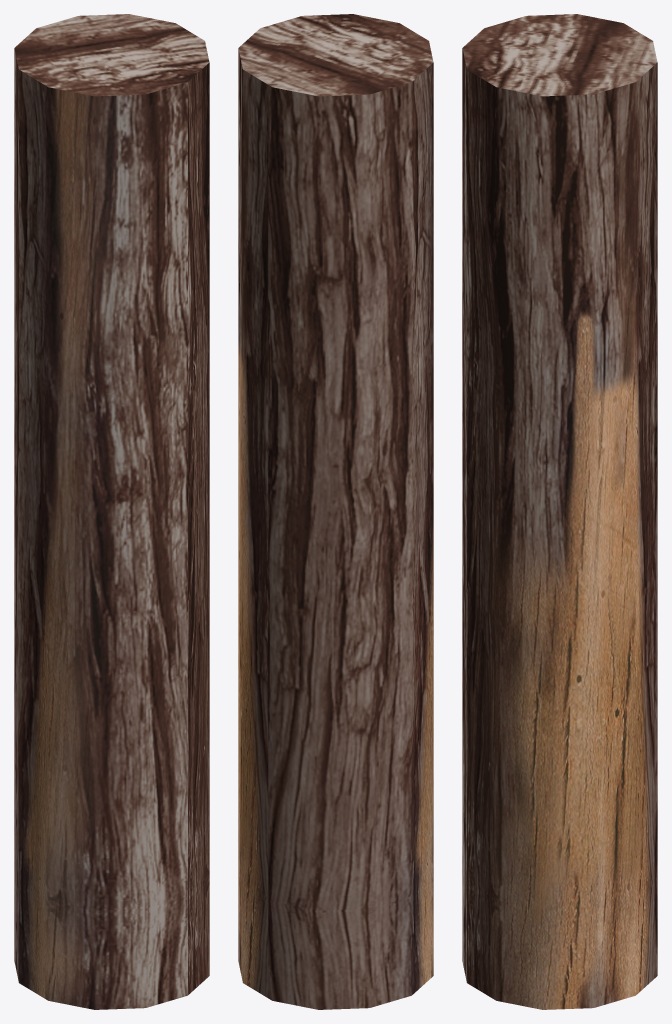
3 renders of one model, left to right at view 1: azimuth 30°, elevation 25°; view 2: azimuth 150°, elevation 25°; view 3: azimuth 270°, elevation 25°, orthographic.
Parts seen in each view (by area): view 1: Box08; view 2: Box08; view 3: Box08.
Boxes of the visible parts, x1=… form: Box08: x1=14, y1=14, x2=209, y2=1009; Box08: x1=238, y1=14, x2=433, y2=1009; Box08: x1=462, y1=14, x2=657, y2=1009.
Bounding box in the file's own units: 8.34 × 8.34 × 43.1.
